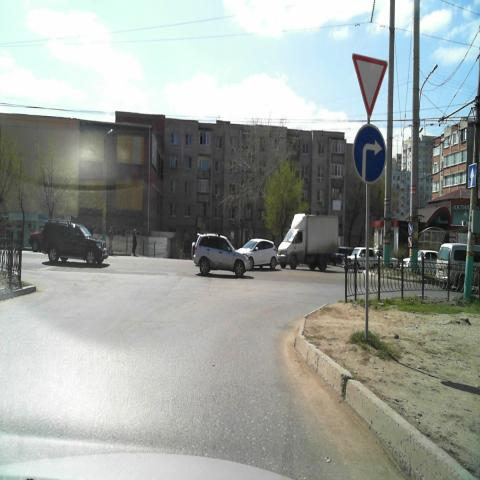4_1_2: (352, 122, 388, 186)
